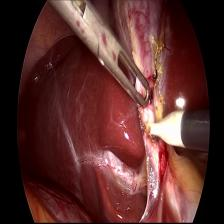Grasper: (50, 0, 152, 110)
Hook: (146, 109, 188, 156)
